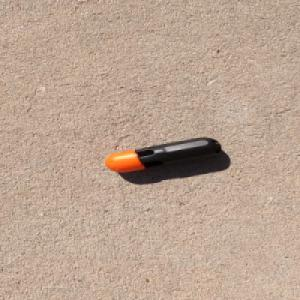PlasticPart: (102, 135, 223, 172)
